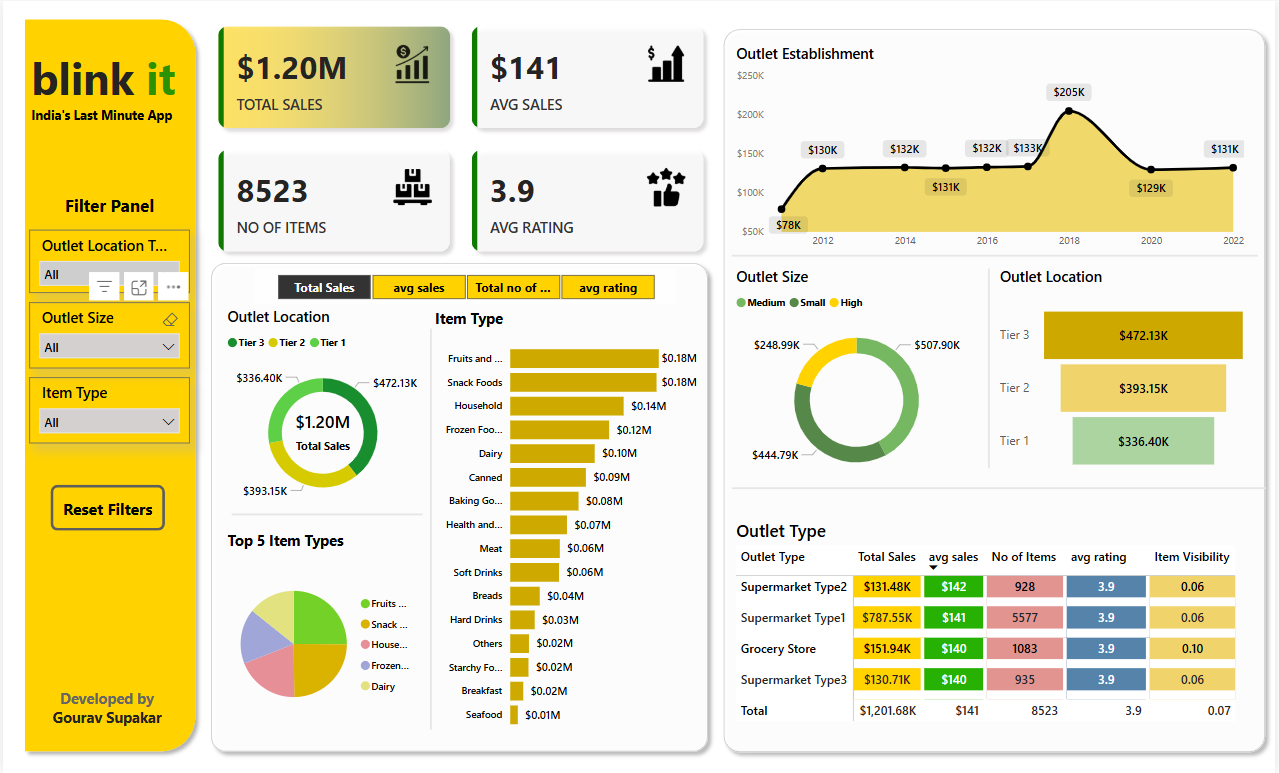

This screenshot's page, from the dashboard's own definition file:
{"tool":"powerbi","page":{"name":"Blinkit's Sales Dashboard","canvas":[1400,850],"ordinal":0},"visuals":[{"type":"shape","box":[14.5,11.6,205.7,824.2],"z":0},{"type":"textbox","box":[26.1,46.4,179.6,107.2],"z":1000},{"type":"cardVisual","fields":{"Data":["BlinkIT Grocery Data.Total Sales","BlinkIT Grocery Data.avg sales","BlinkIT Grocery Data.Total no of items","BlinkIT Grocery Data.avg rating"]},"box":[220.2,11.6,569.3,282.5],"z":2000},{"type":"shape","box":[220.2,279.6,564.9,556.2],"z":3000},{"type":"donutChart","title":"Outlet Location","fields":{"Y":["BlinkIT Grocery Data.Total Sales"],"Category":["BlinkIT Grocery Data.Outlet Location Type"]},"box":[241.9,336.1,220.2,230.3],"z":4000},{"type":"slicer","fields":{"Values":["Metrics.Metrics"]},"box":[276.8,294.5,464.9,39.5],"z":5000},{"type":"card","fields":{"Values":["BlinkIT Grocery Data.Total Sales"]},"box":[299.8,441.8,104.3,62.3],"z":6000},{"type":"pieChart","title":"Top 5 Item Types","fields":{"Y":["BlinkIT Grocery Data.Total Sales"],"Category":["BlinkIT Grocery Data.Item Type"]},"box":[241.9,583.8,220.2,230.3],"z":7000},{"type":"shape","box":[252,559.1,210,13],"z":8000},{"type":"shape","box":[462.1,360.7,17.4,441.8],"z":9000},{"type":"barChart","title":"Item Type","fields":{"Y":["BlinkIT Grocery Data.Total Sales"],"Category":["BlinkIT Grocery Data.Item Type"]},"box":[470.8,339,298.4,473.7],"z":10000},{"type":"shape","box":[785.1,21.7,614.2,814.1],"z":11000},{"type":"lineChart","title":"Outlet Establishment","fields":{"Y":["BlinkIT Grocery Data.Total Sales"],"Category":["BlinkIT Grocery Data.Outlet Establishment Year"]},"box":[802.5,46.4,569.3,234.7],"z":12000},{"type":"shape","box":[802.5,273.8,579.4,13],"z":13000},{"type":"donutChart","title":"Outlet Size","fields":{"Y":["BlinkIT Grocery Data.Total Sales"],"Category":["BlinkIT Grocery Data.Outlet Size"]},"box":[802.5,291.2,275.2,246.3],"z":14000},{"type":"shape","box":[1079.2,294.1,13,220.2],"z":15000},{"type":"funnel","title":"Outlet Location ","fields":{"Y":["BlinkIT Grocery Data.Total Sales"],"Category":["BlinkIT Grocery Data.Outlet Location Type"]},"box":[1092.2,291.2,282.5,246.3],"z":16000},{"type":"shape","box":[802.5,530.2,588.1,13],"z":17000},{"type":"pivotTable","title":"Outlet Type","fields":{"Rows":["BlinkIT Grocery Data.Outlet Type"],"Values":["BlinkIT Grocery Data.Total Sales","BlinkIT Grocery Data.avg sales","BlinkIT Grocery Data.Total no of items","BlinkIT Grocery Data.avg rating","Avg(BlinkIT Grocery Data.Item Visibility)"]},"box":[802.5,569.3,583.8,233.2],"z":18000},{"type":"slicer","fields":{"Values":["BlinkIT Grocery Data.Outlet Location Type"]},"box":[29,252,176.7,69.5],"z":19000},{"type":"slicer","fields":{"Values":["BlinkIT Grocery Data.Outlet Size"]},"box":[29,331.7,176.7,72.4],"z":20000},{"type":"slicer","fields":{"Values":["BlinkIT Grocery Data.Item Type"]},"box":[29,414.3,176.7,72.4],"z":21000},{"type":"textbox","box":[29,207.1,176.7,34.8],"z":22000},{"type":"textbox","box":[26.1,751.8,176.7,57.9],"z":23000},{"type":"actionButton","box":[52.1,533.1,126,50.7],"z":24000}]}

Visuals, with their boxes in screenshot pixels (x1, y1, x2, y2), scaled from the page's 1400x850 canvas onto the 1279x773 screenshot:
shape: left=13, top=11, right=201, bottom=760
textbox: left=24, top=42, right=188, bottom=140
cardVisual - BlinkIT Grocery Data.Total Sales x BlinkIT Grocery Data.avg sales: left=201, top=11, right=721, bottom=267
shape: left=201, top=254, right=717, bottom=760
"Outlet Location" donutChart: left=221, top=306, right=422, bottom=515
slicer - Metrics.Metrics: left=253, top=268, right=678, bottom=304
card - BlinkIT Grocery Data.Total Sales: left=274, top=402, right=369, bottom=458
"Top 5 Item Types" pieChart: left=221, top=531, right=422, bottom=740
shape: left=230, top=508, right=422, bottom=520
shape: left=422, top=328, right=438, bottom=730
"Item Type" barChart: left=430, top=308, right=703, bottom=739
shape: left=717, top=20, right=1278, bottom=760
"Outlet Establishment" lineChart: left=733, top=42, right=1253, bottom=256
shape: left=733, top=249, right=1262, bottom=261
"Outlet Size" donutChart: left=733, top=265, right=985, bottom=489
shape: left=986, top=267, right=998, bottom=468
"Outlet Location " funnel: left=998, top=265, right=1256, bottom=489
shape: left=733, top=482, right=1270, bottom=494
"Outlet Type" pivotTable: left=733, top=518, right=1266, bottom=730
slicer - BlinkIT Grocery Data.Outlet Location Type: left=26, top=229, right=188, bottom=292
slicer - BlinkIT Grocery Data.Outlet Size: left=26, top=302, right=188, bottom=367
slicer - BlinkIT Grocery Data.Item Type: left=26, top=377, right=188, bottom=443
textbox: left=26, top=188, right=188, bottom=220
textbox: left=24, top=684, right=185, bottom=736
actionButton: left=48, top=485, right=163, bottom=531
